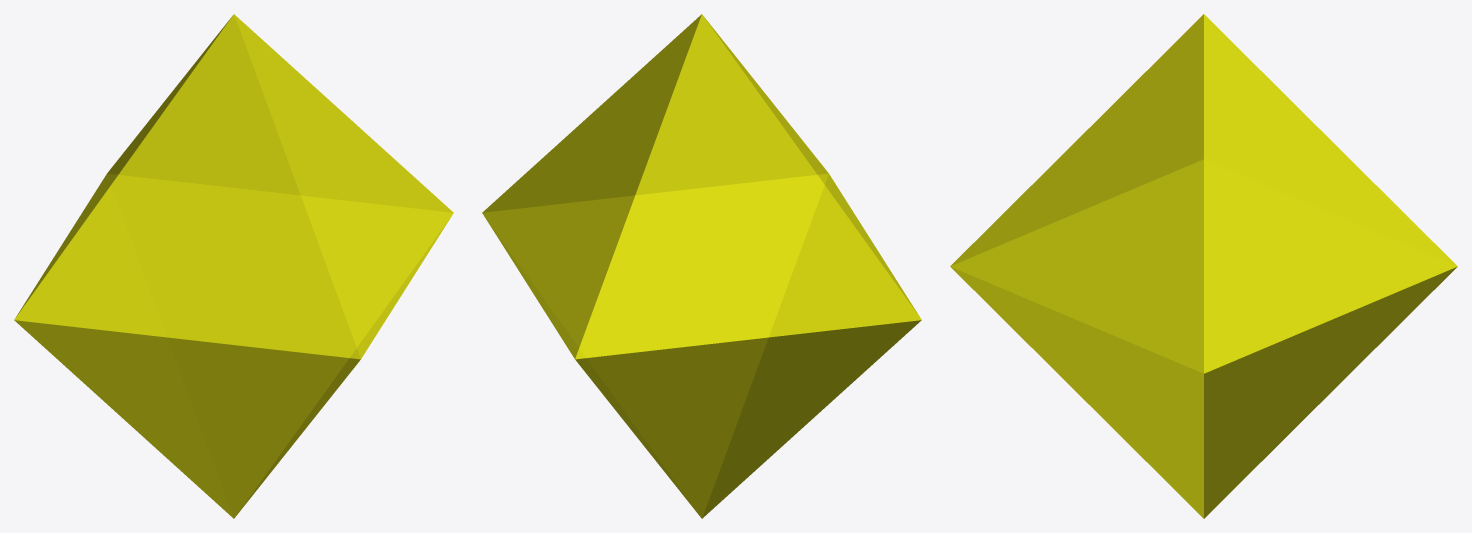
The model's file is bipyramid.fbx.
The picture shows the model from 3 angles, left to right: view 1: azimuth 30°, elevation 25°; view 2: azimuth 150°, elevation 25°; view 3: azimuth 270°, elevation 25°; orthographic projection.
Visible parts, largest first — view 1: polySurface2; view 2: polySurface2; view 3: polySurface2.
Boxes of the visible parts, box(x1,y1,x2,y2) form: polySurface2: box(14, 14, 453, 518); polySurface2: box(482, 14, 921, 518); polySurface2: box(950, 14, 1457, 518).
Bounding box in the file's own units: 2.51 × 2.76 × 2.51.
